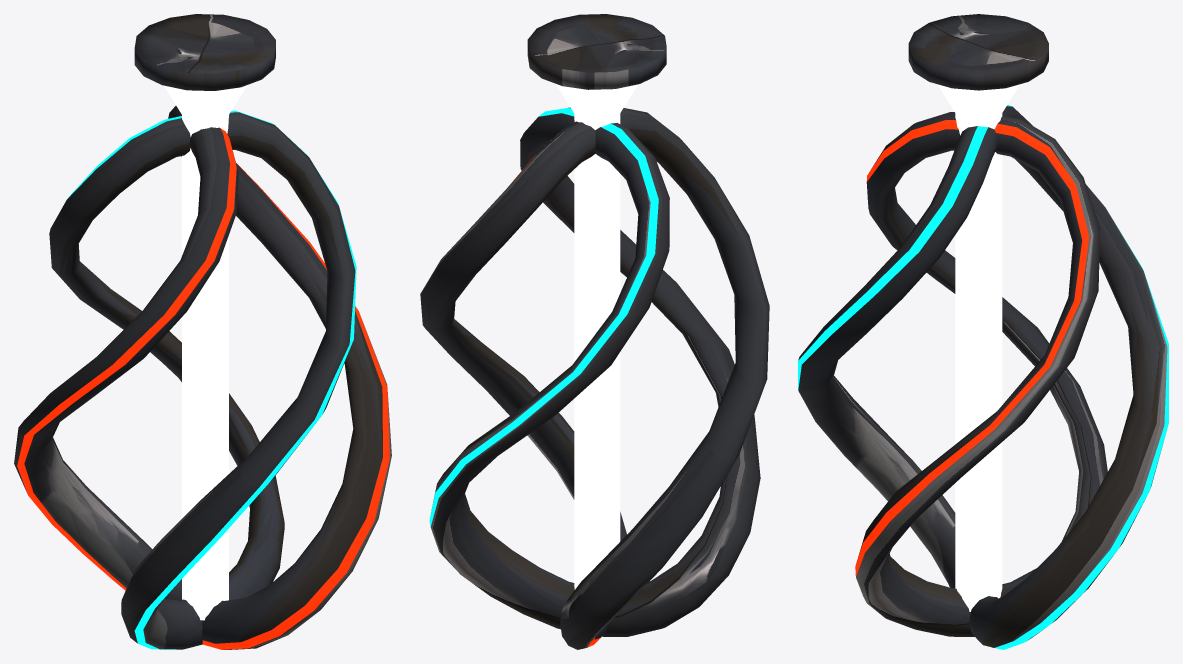
Rendered from track1Light.glb.
3 renders of one model, left to right at view 1: azimuth 30°, elevation 25°; view 2: azimuth 150°, elevation 25°; view 3: azimuth 270°, elevation 25°, orthographic.
Parts seen in each view (by area): view 1: Torus.005; view 2: Torus.005; view 3: Torus.005.
Boxes of the visible parts, left/top/right/bottom form: Torus.005: left=14, top=14, right=391, bottom=649; Torus.005: left=420, top=14, right=769, bottom=649; Torus.005: left=798, top=14, right=1168, bottom=649.
Size of the model in its own units: 1.27 by 2.23 by 1.27.
4 materials, 1 textured.
